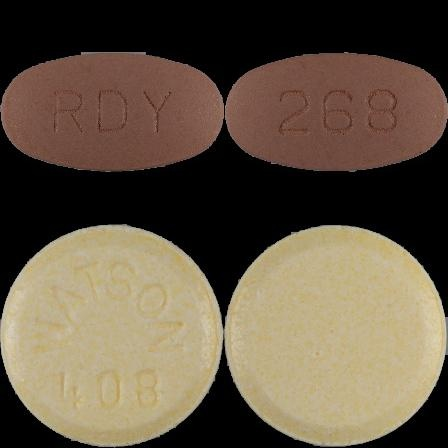68645-263: (0, 0, 224, 224)
